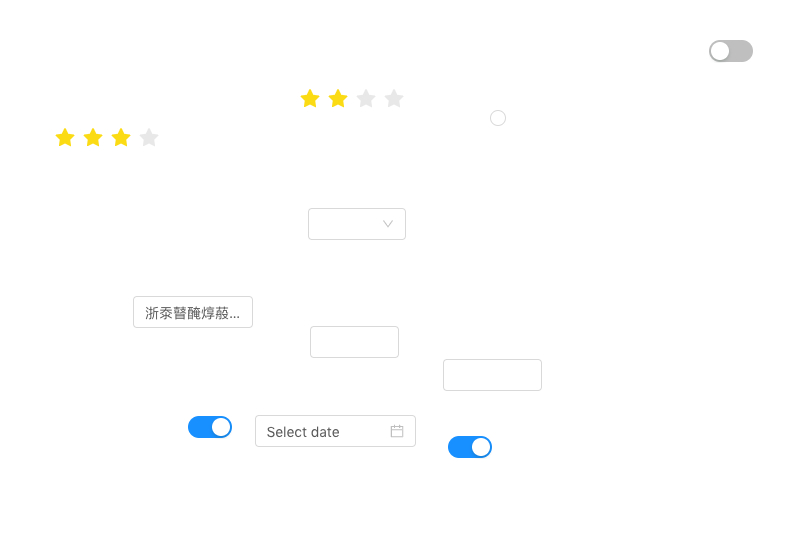DatePicker: (255, 415, 416, 447)
Input: (133, 296, 253, 328), (443, 359, 542, 391), (310, 326, 399, 358)
Radio: (490, 107, 506, 127)
Rate: (55, 121, 175, 153), (300, 82, 420, 114)
Select: (308, 208, 406, 240)
Switch: (188, 415, 232, 439), (448, 435, 492, 459), (709, 39, 753, 63)
